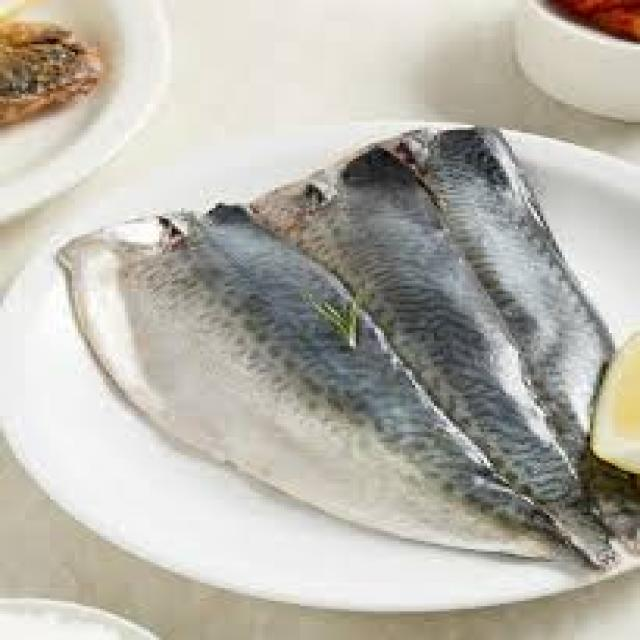fish: (59, 202, 602, 574)
